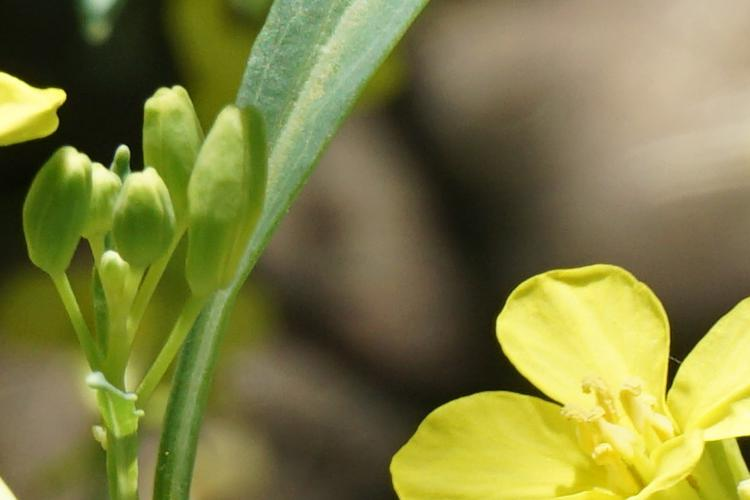bud: (198, 110, 273, 310), (21, 152, 91, 289), (146, 93, 206, 229), (116, 178, 173, 261), (78, 166, 122, 241)
yellow: (417, 256, 748, 497)
